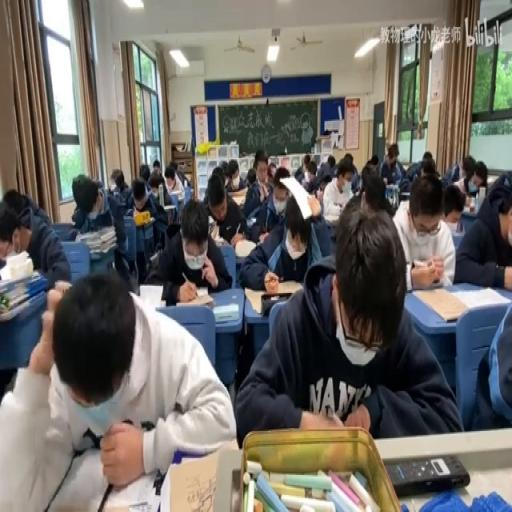calculator: (166, 449, 229, 512), (96, 465, 158, 511), (243, 283, 301, 314), (451, 284, 508, 310), (0, 293, 39, 321), (173, 287, 216, 307), (138, 282, 163, 307), (78, 225, 112, 243), (213, 302, 239, 322), (234, 238, 256, 256), (228, 189, 246, 205), (134, 213, 154, 226), (54, 277, 72, 290), (89, 246, 110, 257), (324, 213, 341, 225), (209, 222, 219, 242), (445, 220, 458, 234), (149, 250, 158, 264), (384, 183, 398, 192), (245, 215, 256, 226), (398, 189, 410, 199), (163, 204, 176, 210)
paper: (235, 196, 458, 442), (8, 269, 234, 506), (154, 196, 230, 302), (0, 186, 72, 292), (80, 169, 138, 283), (282, 176, 331, 270), (243, 162, 281, 239), (322, 155, 356, 222), (146, 166, 174, 215), (451, 158, 483, 199), (378, 141, 404, 185), (72, 173, 98, 212), (398, 159, 426, 192), (358, 162, 378, 199), (131, 178, 150, 212), (0, 212, 19, 242), (168, 156, 185, 186), (272, 165, 290, 188), (360, 193, 376, 215), (109, 168, 123, 193), (252, 148, 266, 171), (138, 164, 150, 184), (350, 170, 360, 194), (266, 160, 277, 180), (219, 159, 229, 179), (302, 152, 312, 172), (227, 166, 238, 184), (245, 166, 255, 185), (302, 170, 313, 186), (293, 166, 302, 184), (421, 150, 431, 164), (366, 155, 378, 165), (326, 155, 334, 169), (152, 158, 160, 171)
person: (386, 452, 470, 496)
